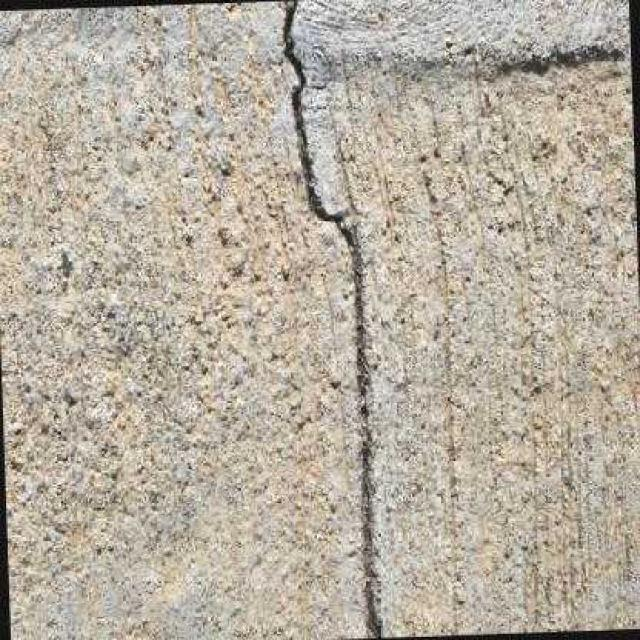D00: (282, 1, 383, 638)
